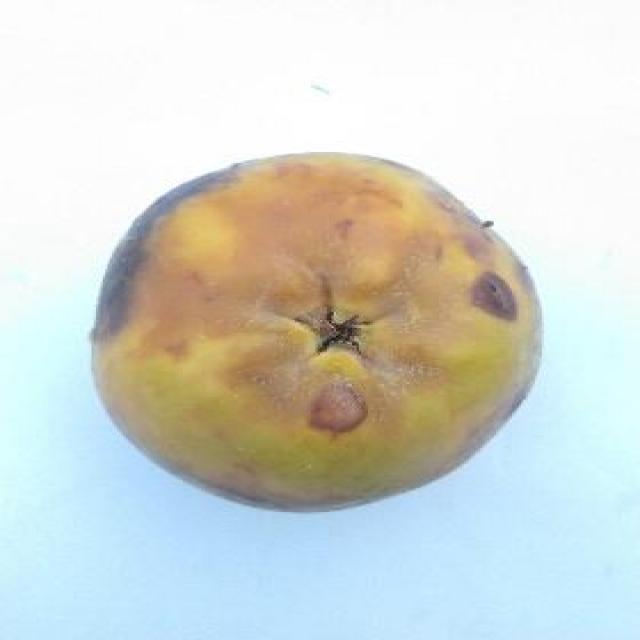Rotten: (99, 149, 531, 507)
